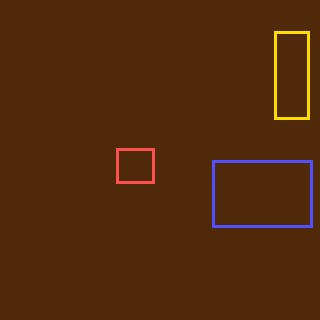bird: (274, 31, 309, 119)
drone: (212, 160, 312, 227), (116, 148, 154, 183)
